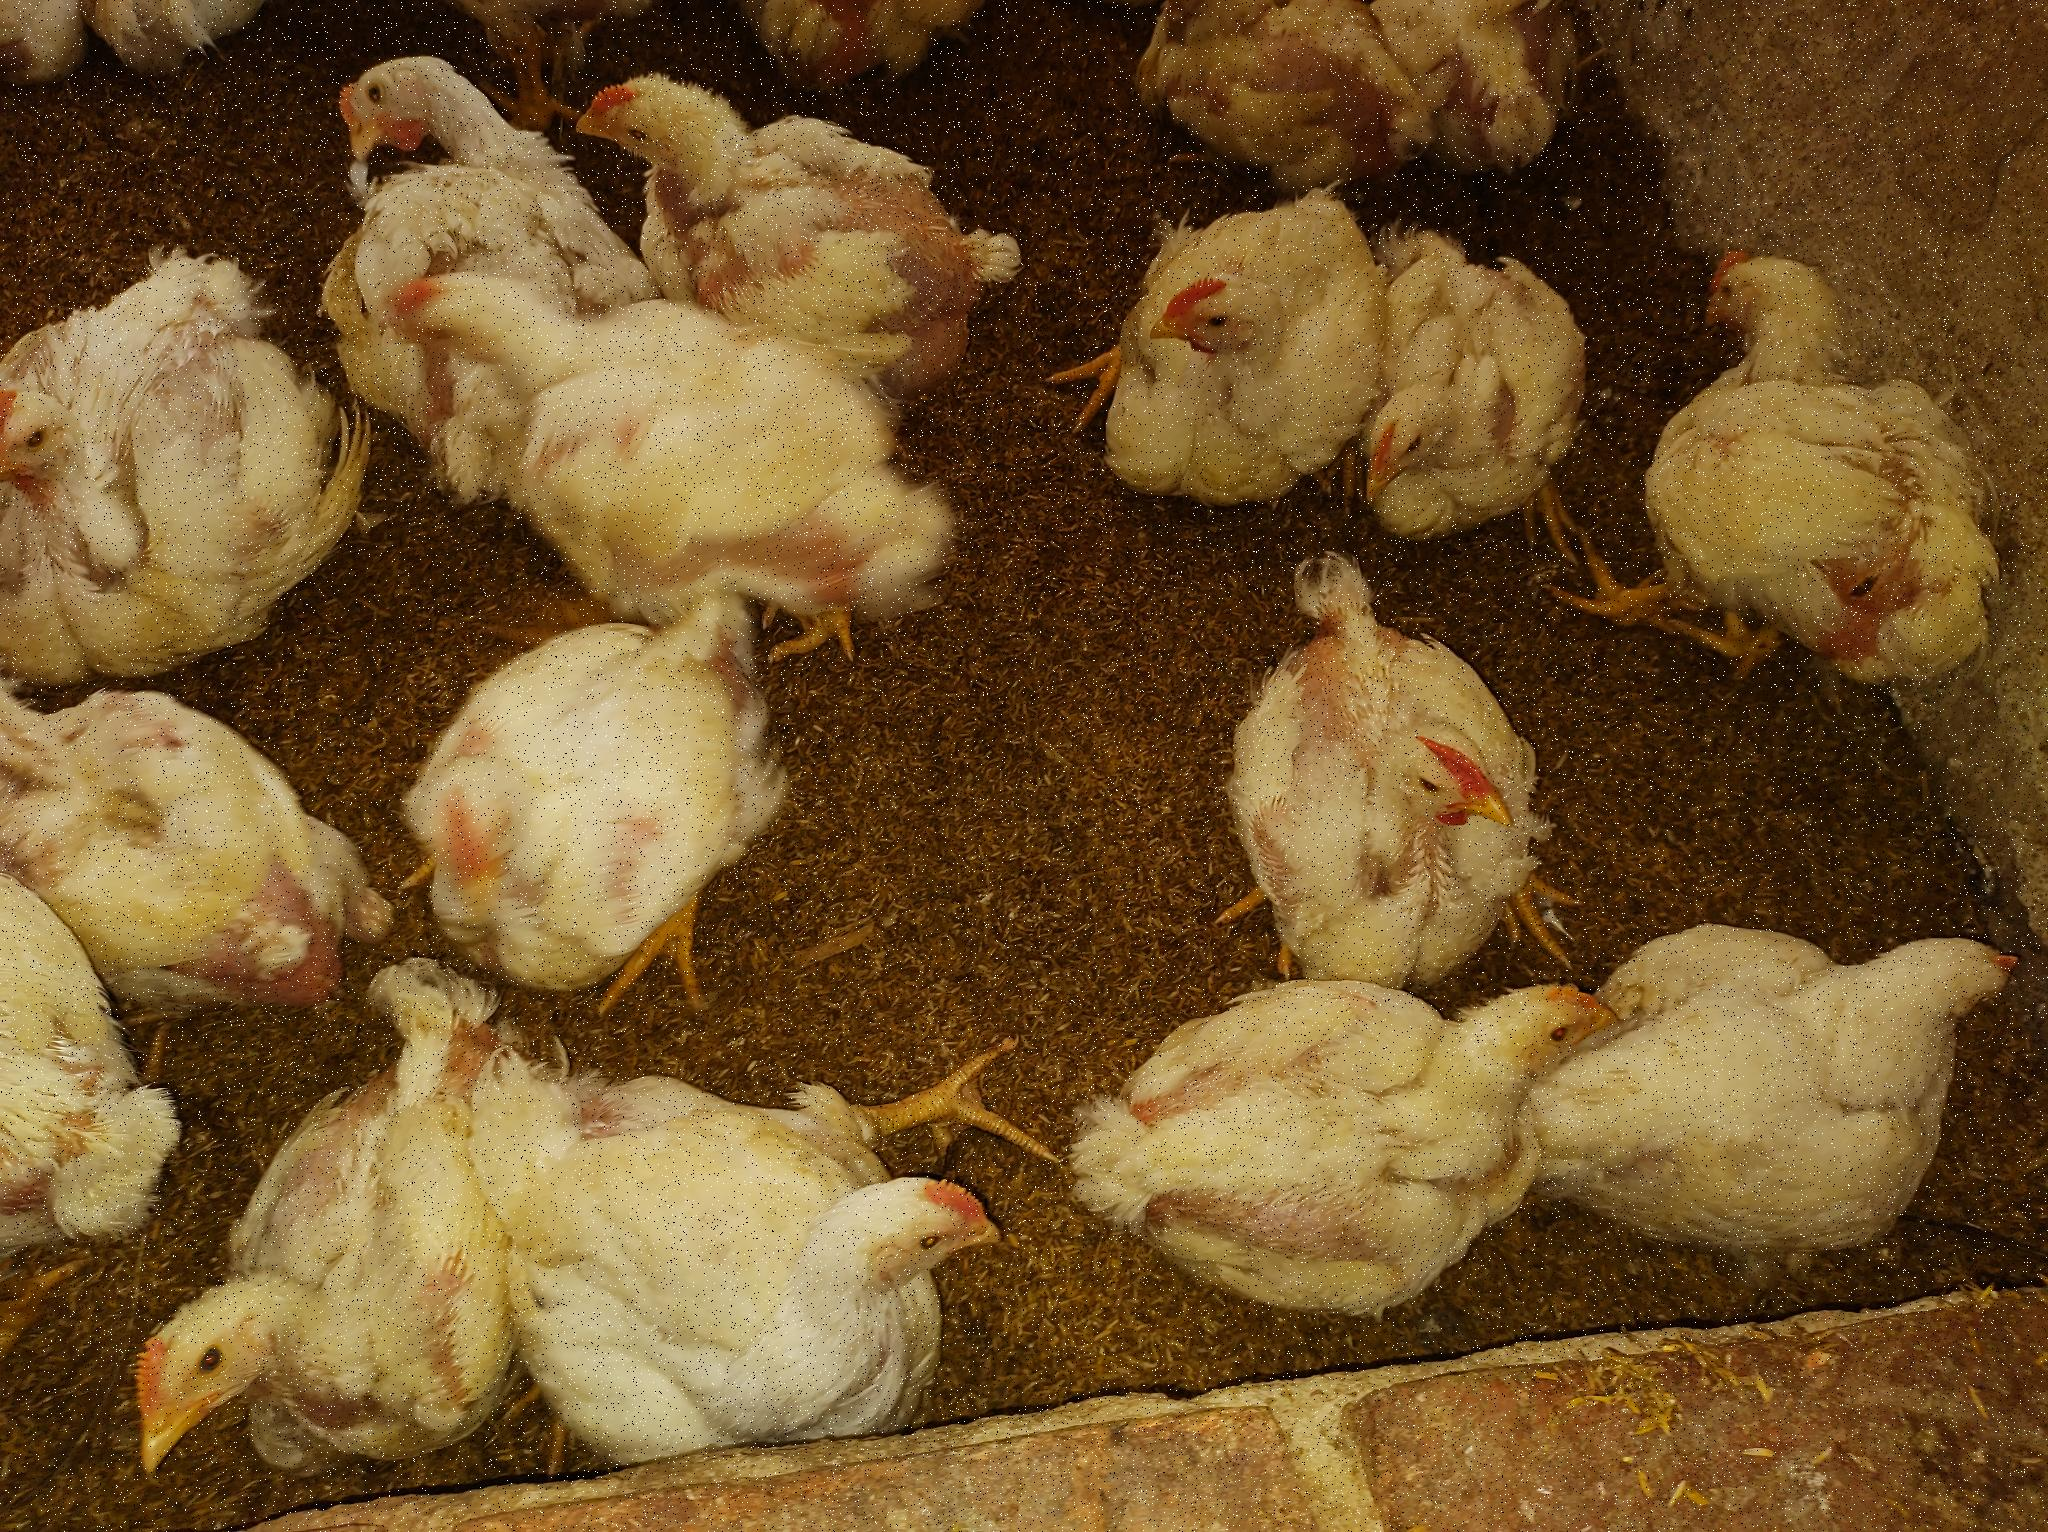Pollos: (134, 1006, 581, 1506), (481, 1040, 997, 1442), (397, 254, 948, 623), (1092, 949, 1626, 1308), (1565, 903, 2025, 1300), (1623, 243, 1982, 686), (413, 607, 783, 991), (1232, 589, 1559, 982), (11, 270, 336, 653), (299, 51, 635, 415), (578, 68, 977, 360), (3, 660, 373, 966), (1083, 188, 1359, 505), (1133, 2, 1581, 195), (1361, 246, 1593, 578), (2, 904, 151, 1271)
